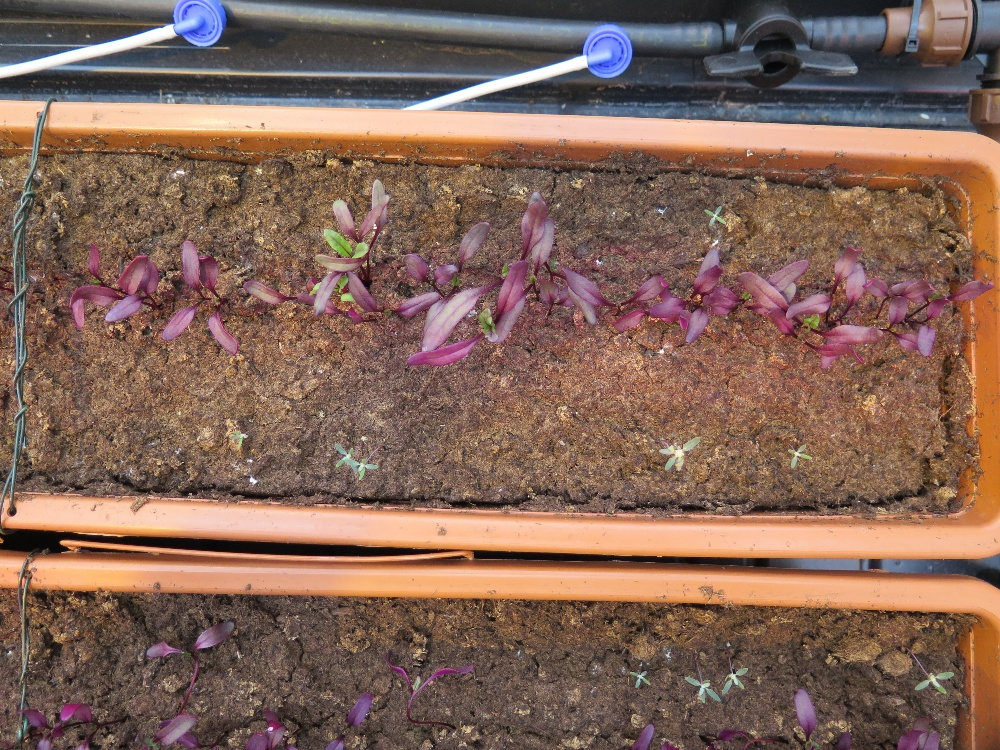crop: (709, 215, 902, 386), (293, 163, 418, 340), (587, 236, 759, 356), (407, 204, 527, 372), (848, 238, 1000, 363), (164, 217, 287, 356), (480, 215, 596, 338), (775, 670, 943, 750), (57, 224, 168, 331), (398, 647, 482, 750), (139, 610, 245, 681), (612, 704, 775, 750), (316, 672, 389, 750), (25, 683, 105, 749), (227, 706, 307, 750), (123, 708, 205, 750)
weed: (677, 649, 762, 706), (902, 651, 962, 704), (648, 420, 705, 474), (323, 429, 371, 483), (784, 433, 827, 476), (621, 649, 659, 697)
